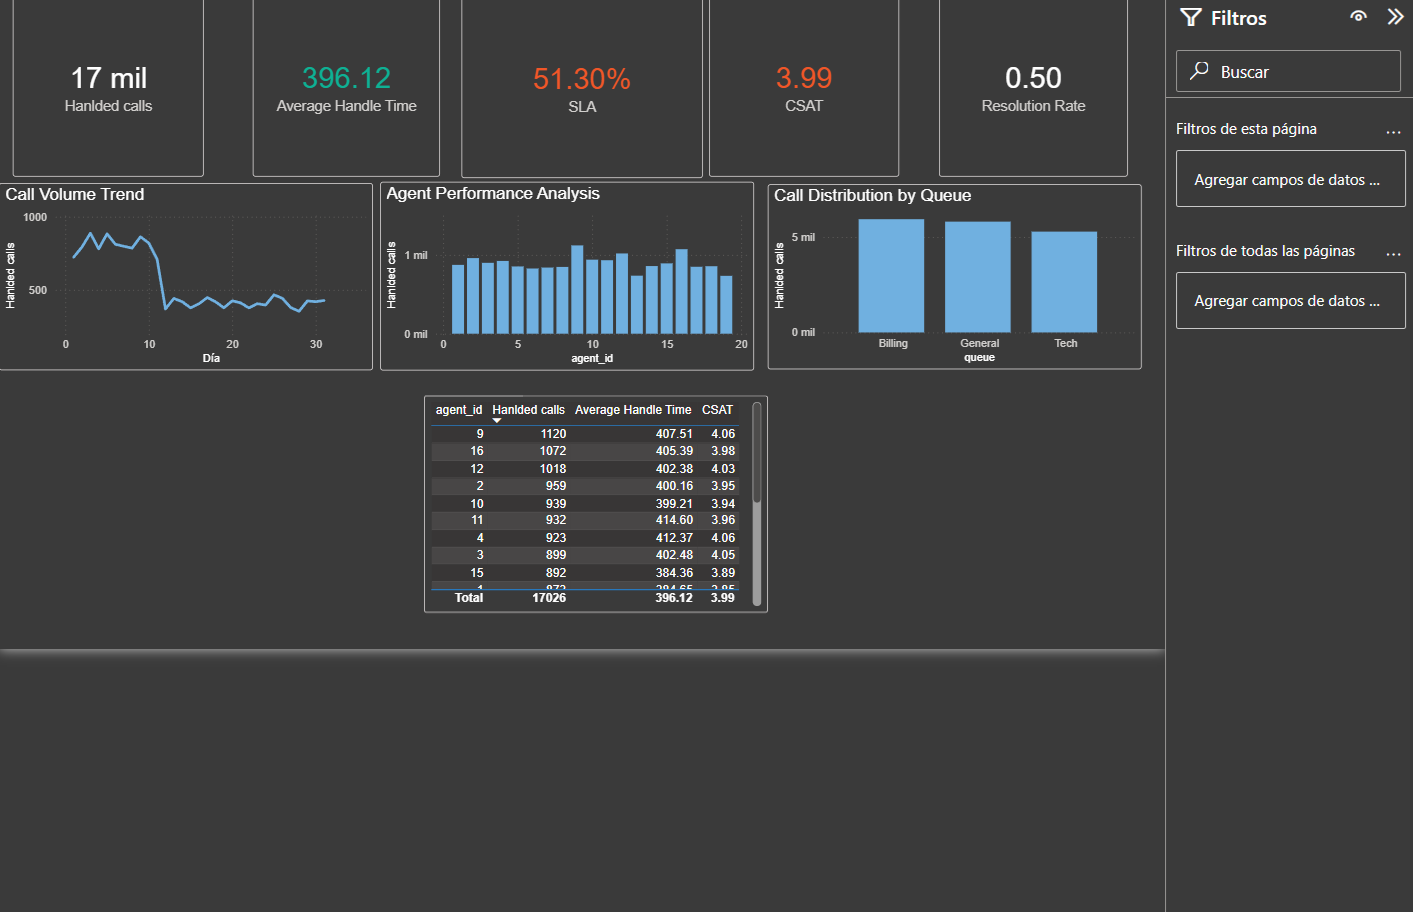

This screenshot's page, from the dashboard's own definition file:
{"tool":"powerbi","page":{"name":"Página 1","canvas":[1280,720],"ordinal":0},"visuals":[{"type":"card","fields":{"Values":["call_center_data.Total Calls"]},"box":[15.1,0,209.9,201.7],"z":0},{"type":"card","fields":{"Values":["call_center_data.AHT"]},"box":[278.6,0,205.8,201.7],"z":1000},{"type":"card","fields":{"Values":["call_center_data.CSAT"]},"box":[779.4,0,208.6,201.7],"z":2000},{"type":"card","fields":{"Values":["call_center_data.Resolution Rate"]},"box":[1031.9,0,207.2,201.7],"z":3000},{"type":"lineChart","title":"Call Volume Trend","fields":{"Category":["call_center_data.Date Only.Variación.Jerarquía de fechas.Año","call_center_data.Date Only.Variación.Jerarquía de fechas.Trimestre","call_center_data.Date Only.Variación.Jerarquía de fechas.Mes","call_center_data.Date Only.Variación.Jerarquía de fechas.Día"],"Y":["call_center_data.Total Calls"]},"box":[0,208.6,410.3,205.8],"z":4000},{"type":"clusteredColumnChart","title":"Agent Performance Analysis","fields":{"Y":["call_center_data.Total Calls"],"Category":["call_center_data.agent_id"]},"box":[418.5,207.2,410.3,207.2],"z":5000},{"type":"clusteredColumnChart","title":"Call Distribution by Queue","fields":{"Category":["call_center_data.queue"],"Y":["call_center_data.Total Calls"]},"box":[843.9,209.9,410.3,203.1],"z":6000},{"type":"tableEx","fields":{"Values":["call_center_data.agent_id","call_center_data.Total Calls","call_center_data.AHT","call_center_data.CSAT"]},"box":[466.6,441.9,377.4,238.8],"z":7000},{"type":"card","fields":{"Values":["call_center_data.SLA"]},"box":[507.7,0,264.8,203.1],"z":7001}]}

Visuals, with their boxes on the page's 1280x720 design canvas (x1, y1, x2, y2). These are canvas units, not pixel positions in the 1413x912 screenshot, which may show the page scaled, cropped or inside an application window:
card - call_center_data.Total Calls: crop(15, 0, 225, 202)
card - call_center_data.AHT: crop(279, 0, 484, 202)
card - call_center_data.CSAT: crop(779, 0, 988, 202)
card - call_center_data.Resolution Rate: crop(1032, 0, 1239, 202)
"Call Volume Trend" lineChart: crop(0, 209, 410, 414)
"Agent Performance Analysis" clusteredColumnChart: crop(418, 207, 829, 414)
"Call Distribution by Queue" clusteredColumnChart: crop(844, 210, 1254, 413)
tableEx - call_center_data.agent_id x call_center_data.Total Calls: crop(467, 442, 844, 681)
card - call_center_data.SLA: crop(508, 0, 772, 203)
